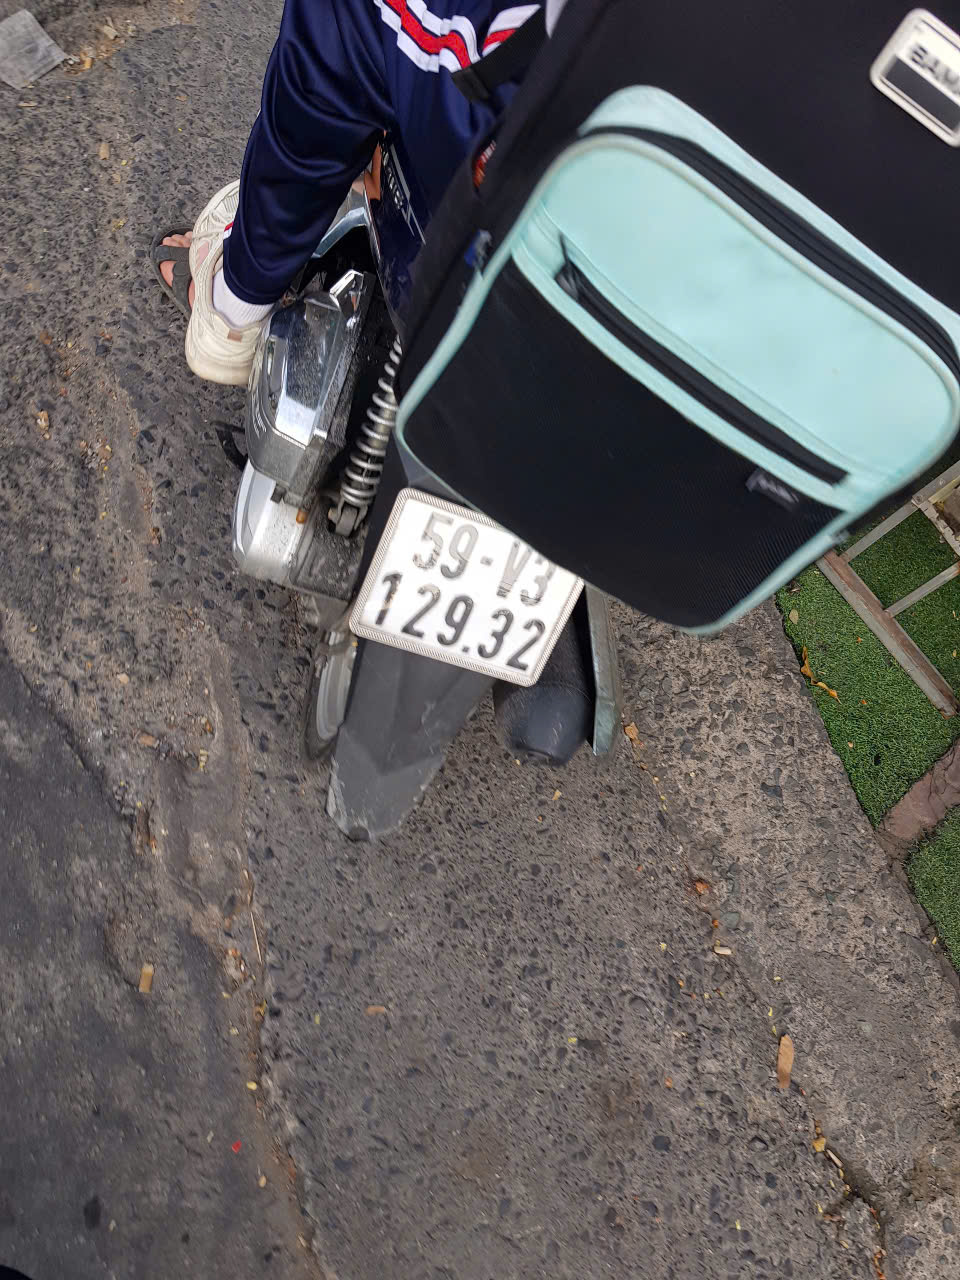bien_so: (352, 492, 586, 684)
